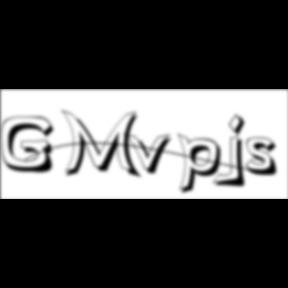G: (2, 116, 60, 176)
M: (61, 108, 145, 181)
j: (226, 113, 252, 191)
p: (178, 132, 228, 198)
s: (245, 137, 284, 179)
v: (124, 131, 178, 177)
